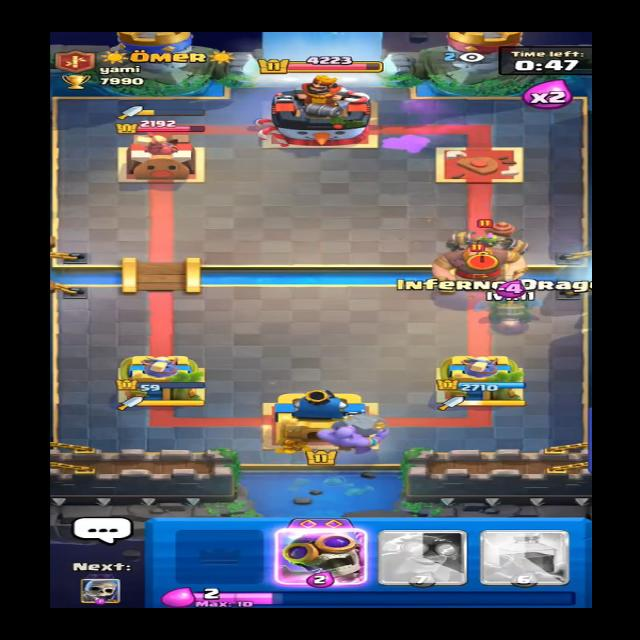giant: (438, 240, 532, 293)
goblin-machine: (448, 216, 529, 266)
